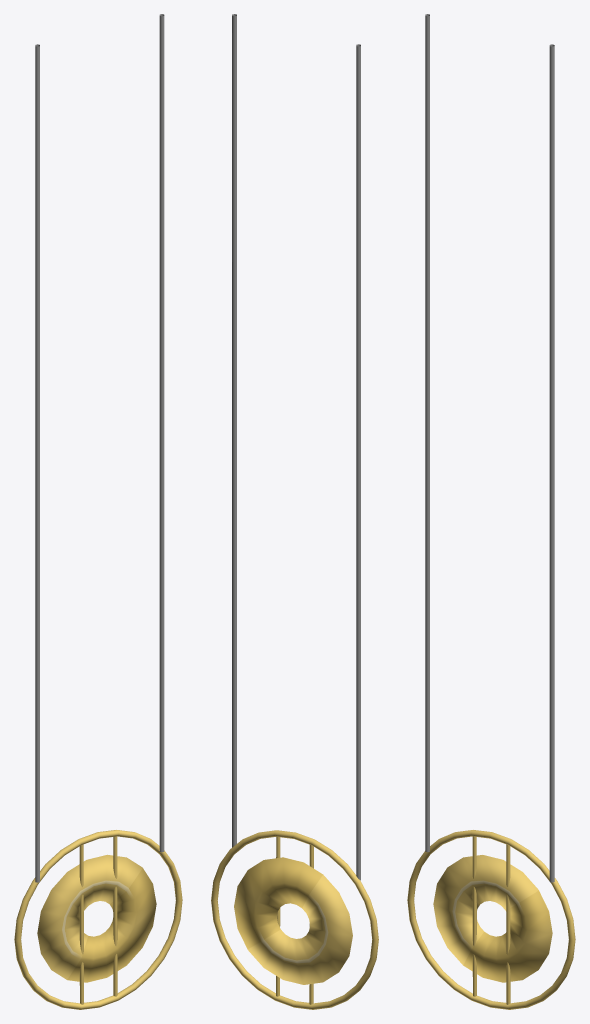
Rendered from Gong.FBX.
3 renders of one model, left to right at view 1: azimuth 30°, elevation 25°; view 2: azimuth 150°, elevation 25°; view 3: azimuth 330°, elevation 25°, orthographic.
Parts seen in each view (by area): view 1: Gong; view 2: Gong; view 3: Gong.
Part boxes in pixels (<box>): Gong: <box>14,14,182,1009</box>; Gong: <box>211,14,378,1009</box>; Gong: <box>407,14,575,1009</box>.
Size of the model in its own units: 3.2 by 17.87 by 0.2331.
